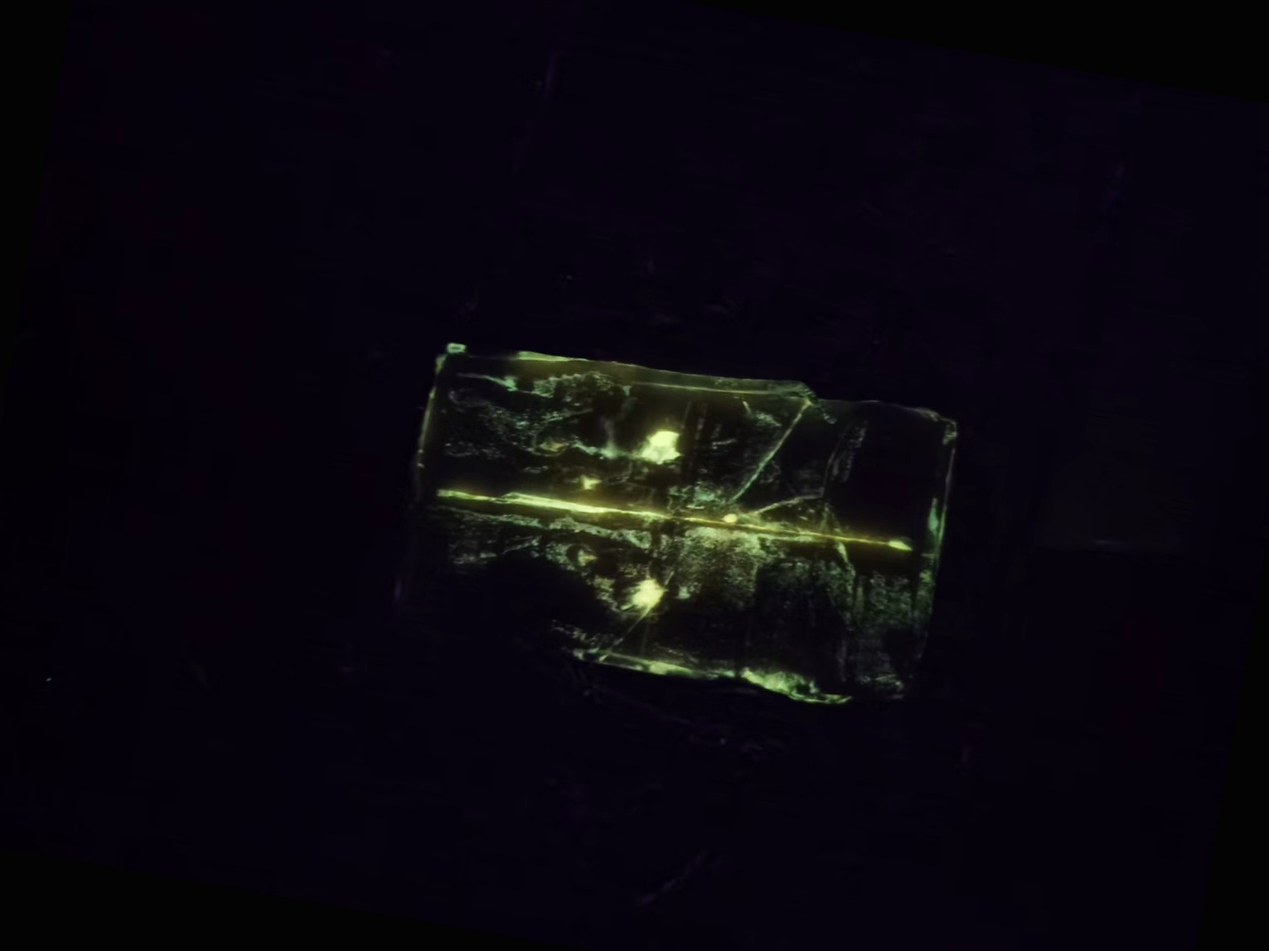Crater: (603, 404, 721, 490), (591, 552, 697, 635)
Fissure: (400, 435, 954, 601)
